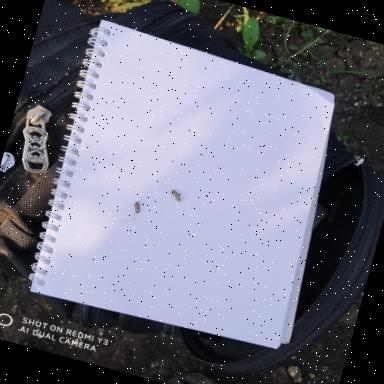pbw: (168, 189, 184, 203), (131, 201, 144, 215)
